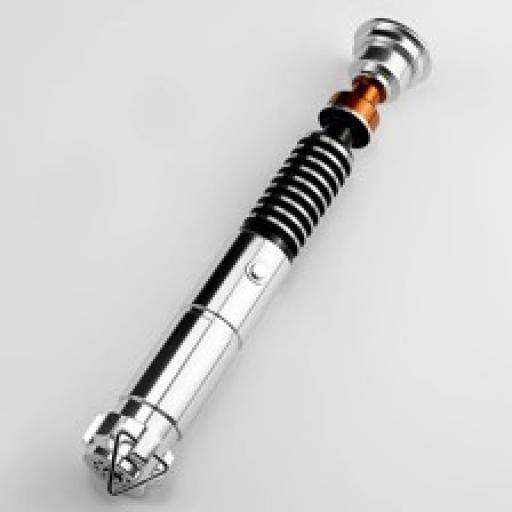lightsaber: (78, 18, 435, 502)
